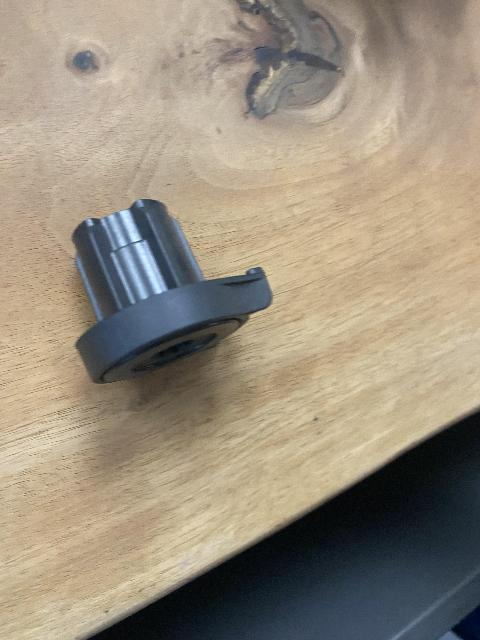Plastik: (71, 195, 279, 383)
